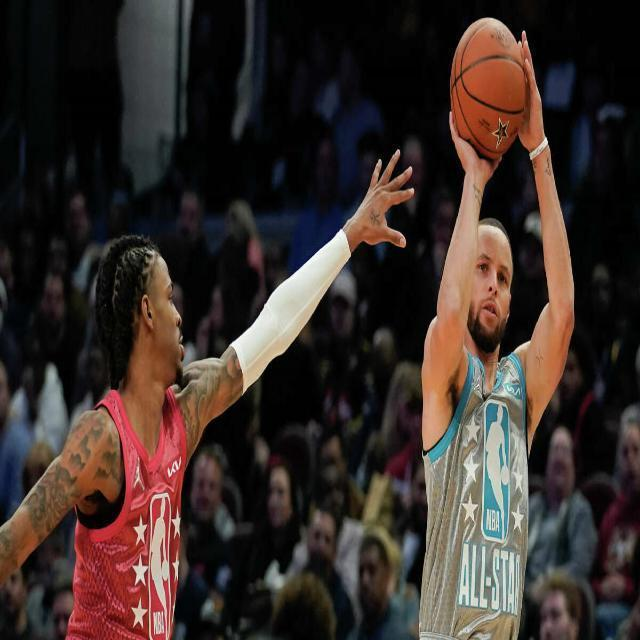ball: (448, 9, 530, 164)
